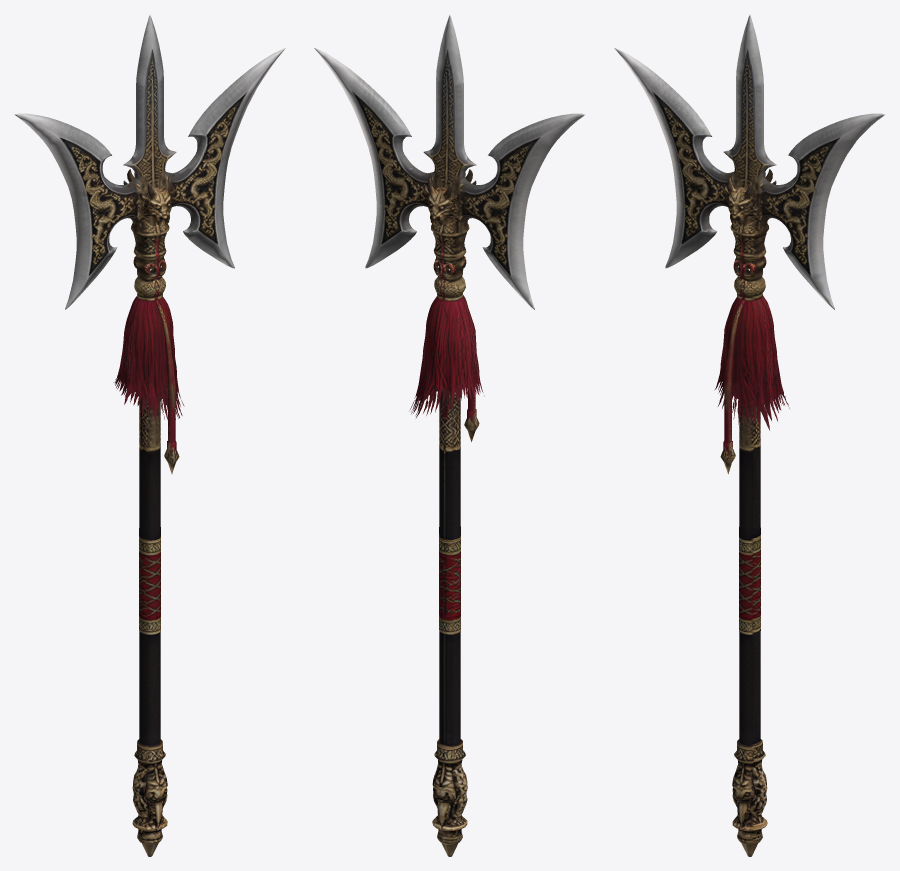
File: 方天画戟.glb
The picture shows the model from 3 angles, left to right: view 1: azimuth 30°, elevation 25°; view 2: azimuth 150°, elevation 25°; view 3: azimuth 330°, elevation 25°; orthographic projection.
Visible parts, largest first — view 1: tripo_37802ab8_caa7_4ec0_a245_5310050d5fb9; view 2: tripo_37802ab8_caa7_4ec0_a245_5310050d5fb9; view 3: tripo_37802ab8_caa7_4ec0_a245_5310050d5fb9.
Boxes of the visible parts, x1,y1,x2,y2 form: tripo_37802ab8_caa7_4ec0_a245_5310050d5fb9: [14, 14, 285, 856]; tripo_37802ab8_caa7_4ec0_a245_5310050d5fb9: [314, 14, 585, 856]; tripo_37802ab8_caa7_4ec0_a245_5310050d5fb9: [614, 14, 885, 856].
Size of the model in its own units: 0.3374 by 0.9995 by 0.1021.
1 material, 1 textured.
